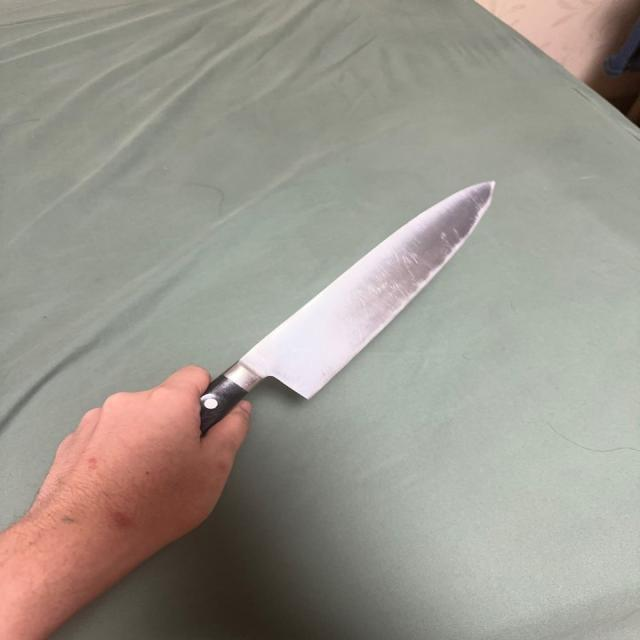knife: (196, 175, 509, 428)
